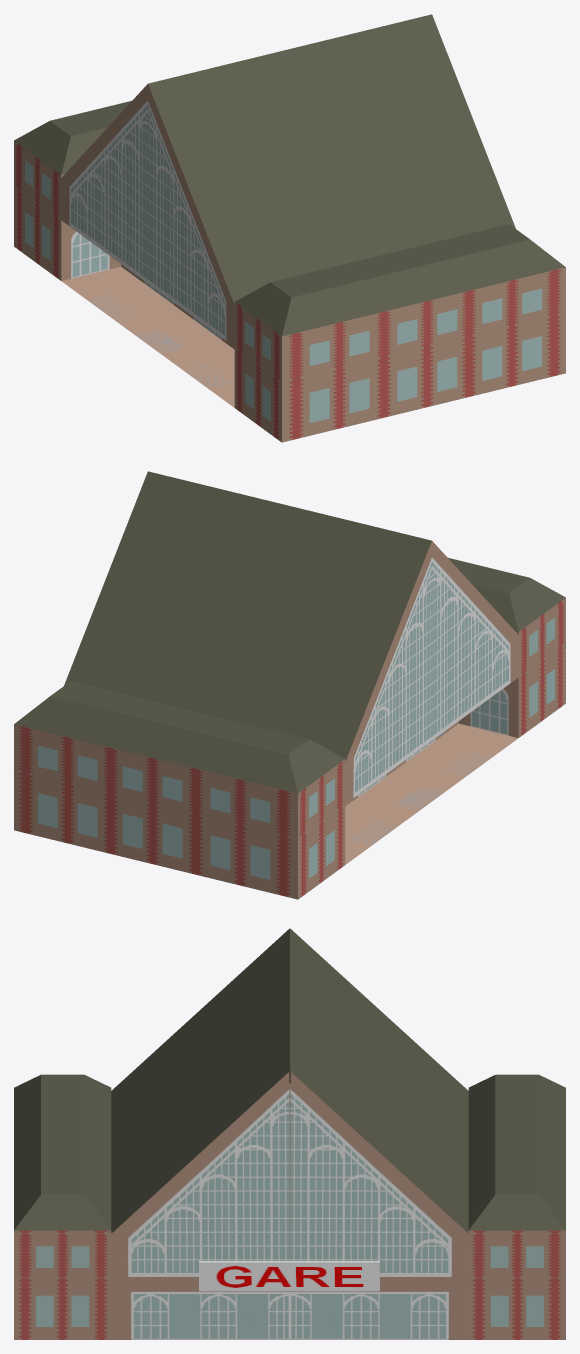
The model's file is gare.glb.
The picture shows the model from 3 angles, top to bottom: view 1: azimuth 30°, elevation 25°; view 2: azimuth 150°, elevation 25°; view 3: azimuth 270°, elevation 25°; orthographic projection. The views are drawn at different scales.
Parts seen in each view (by area): view 1: Cube; view 2: Cube; view 3: Cube.
Boxes of the visible parts, x1,y1,x2,y2 form: Cube: [14, 14, 565, 442]; Cube: [14, 471, 565, 899]; Cube: [14, 928, 565, 1339].
Size of the model in its own units: 24.57 by 21.45 by 39.9.
1 material, 1 textured.
